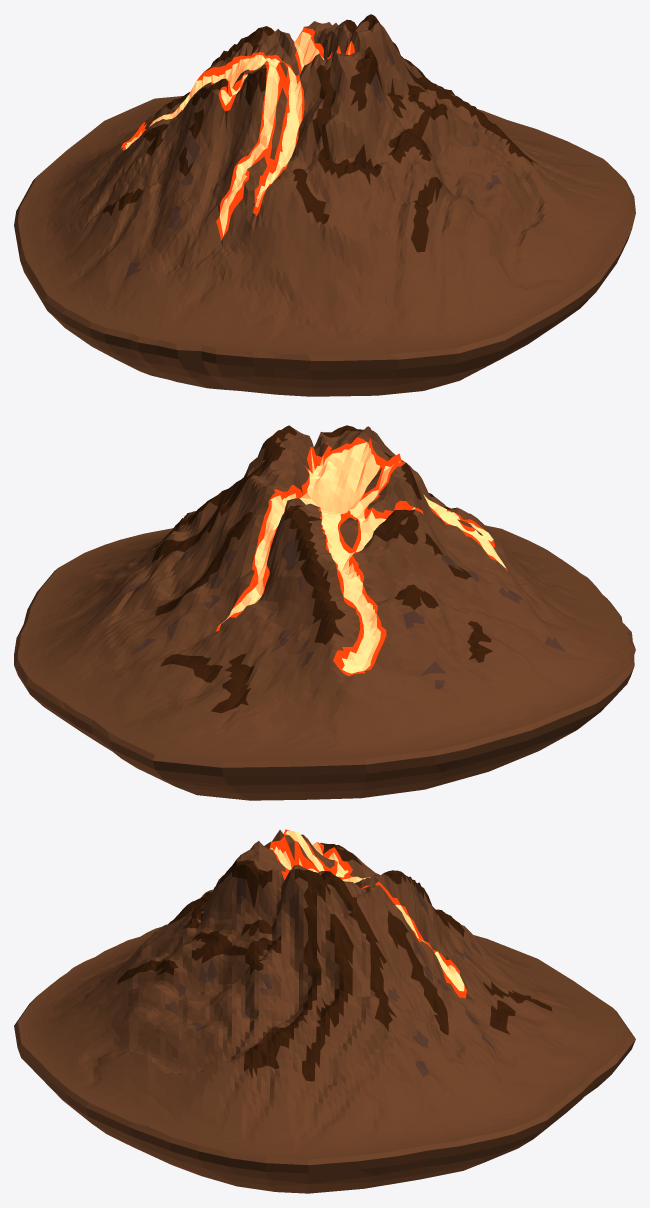
The picture shows the model from 3 angles, top to bottom: view 1: azimuth 30°, elevation 25°; view 2: azimuth 150°, elevation 25°; view 3: azimuth 270°, elevation 25°; orthographic projection. The views are drawn at different scales.
Parts seen in each view (by area): view 1: Landscape_0, Landscape.001_1; view 2: Landscape_0, Landscape.001_1; view 3: Landscape_0, Landscape.001_1.
Part boxes in pixels (x1,y1,x2,y2): Landscape_0: [18, 14, 631, 355]; Landscape.001_1: [14, 160, 635, 396]; Landscape_0: [18, 425, 631, 761]; Landscape.001_1: [14, 568, 635, 800]; Landscape_0: [18, 829, 631, 1159]; Landscape.001_1: [14, 997, 635, 1193].
Size of the model in its own units: 2.13 by 1.21 by 2.2.
